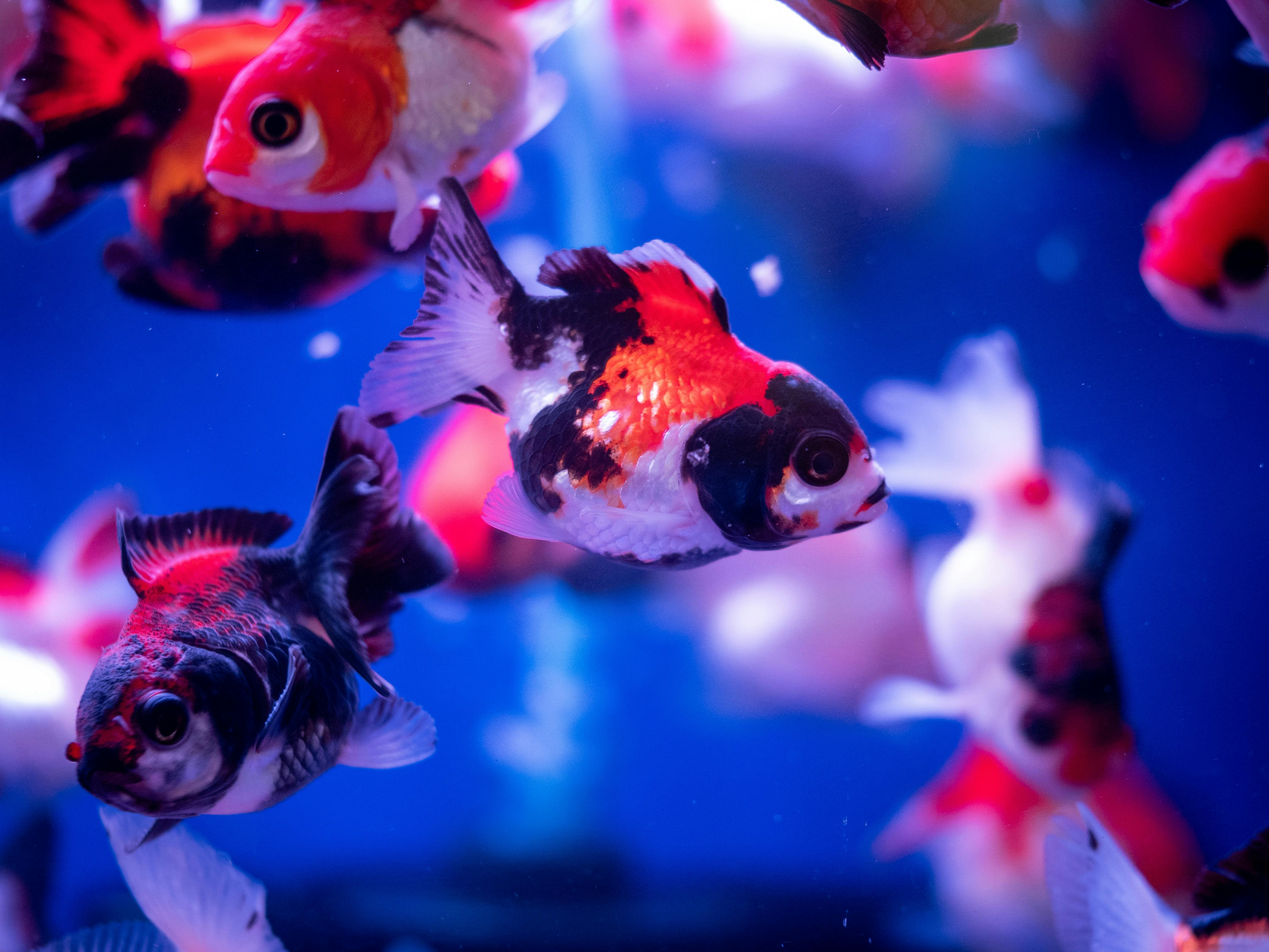fishes: (13, 405, 458, 951)
